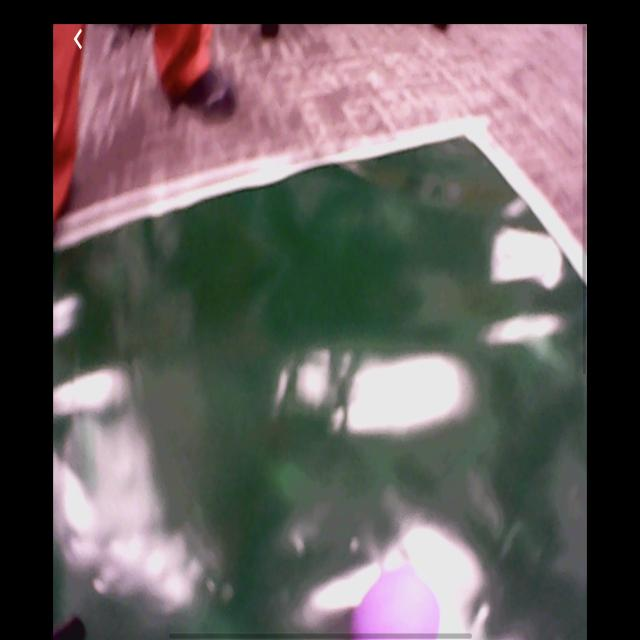ball: (351, 569, 442, 640)
